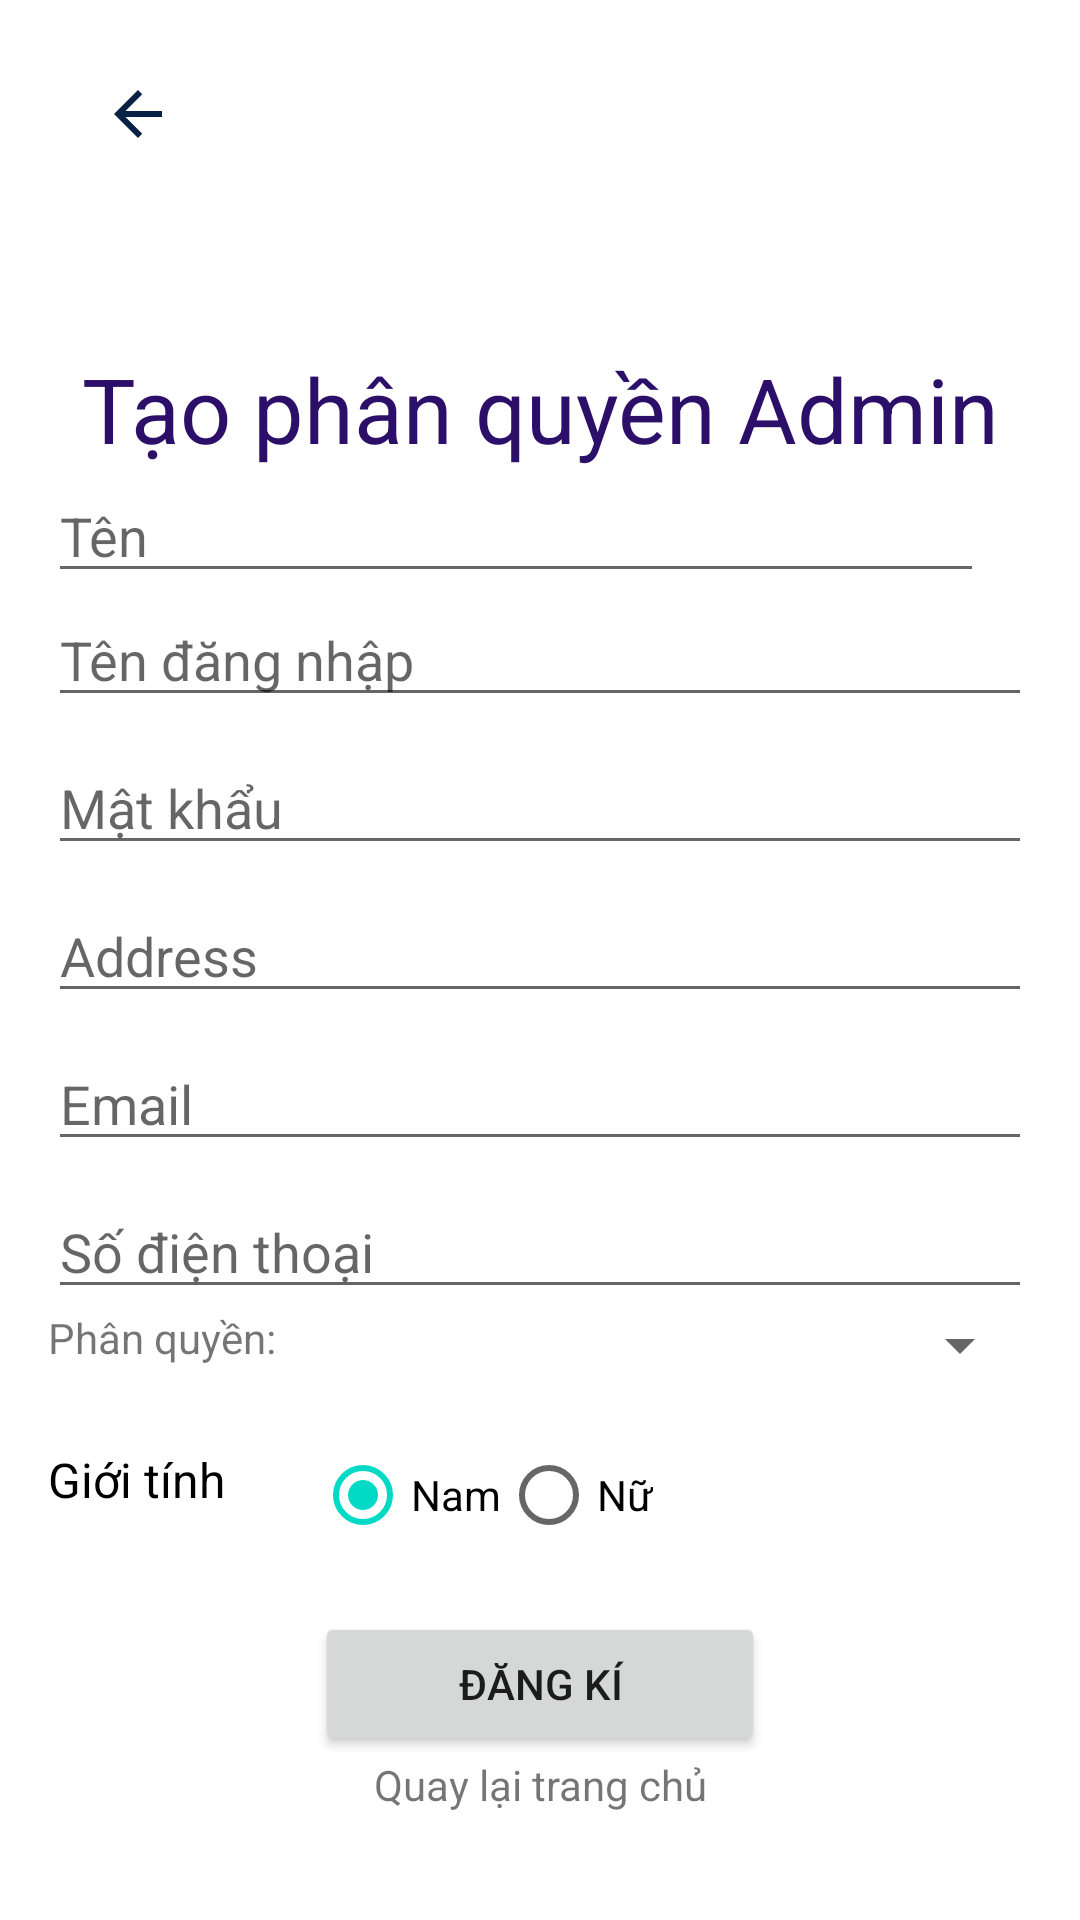

Point at icon controls on the screen. Image size 1080 x 1920, points as point (x, y).
arrow back: point (138, 114)
